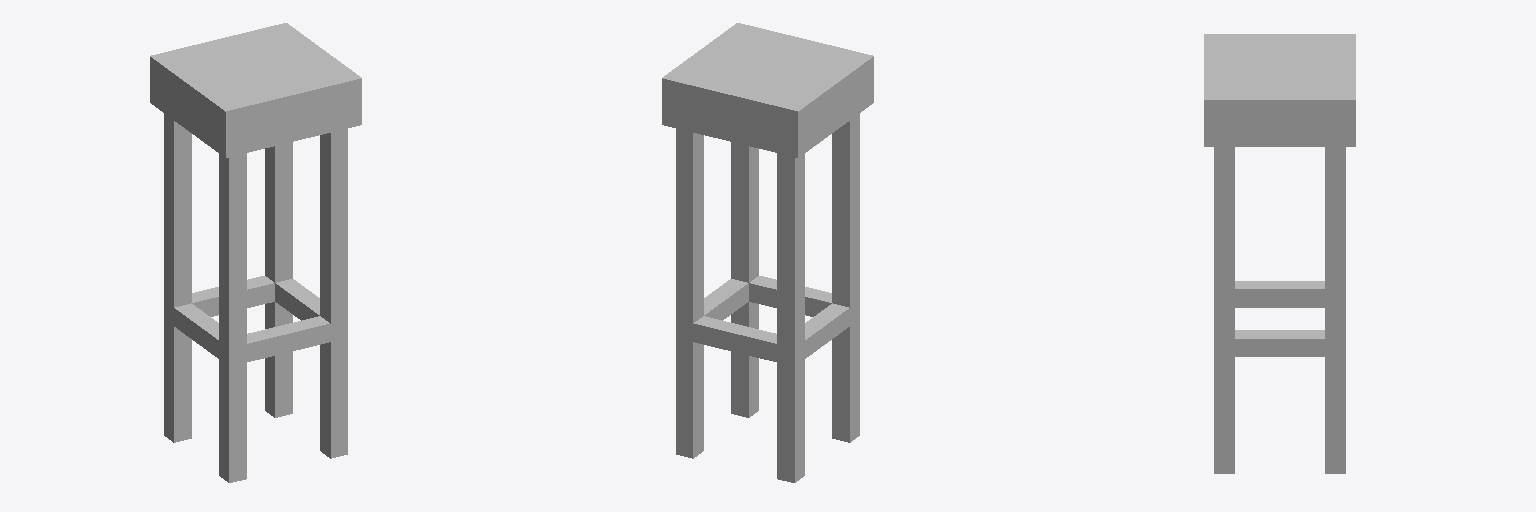
Rendered from stoolBarSquare.obj.
The picture shows the model from 3 angles: view 1: azimuth 30°, elevation 25°; view 2: azimuth 150°, elevation 25°; view 3: azimuth 270°, elevation 25°; orthographic projection.
Parts seen in each view (by area): view 1: stoolBarSquare; view 2: stoolBarSquare; view 3: stoolBarSquare.
Boxes of the visible parts, <box> form: stoolBarSquare: <box>150,23,361,482</box>; stoolBarSquare: <box>662,23,873,482</box>; stoolBarSquare: <box>1204,34,1355,473</box>.
Bounding box in the file's own units: 1.53 × 4.05 × 1.48.